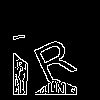R: (27, 28, 78, 85)
